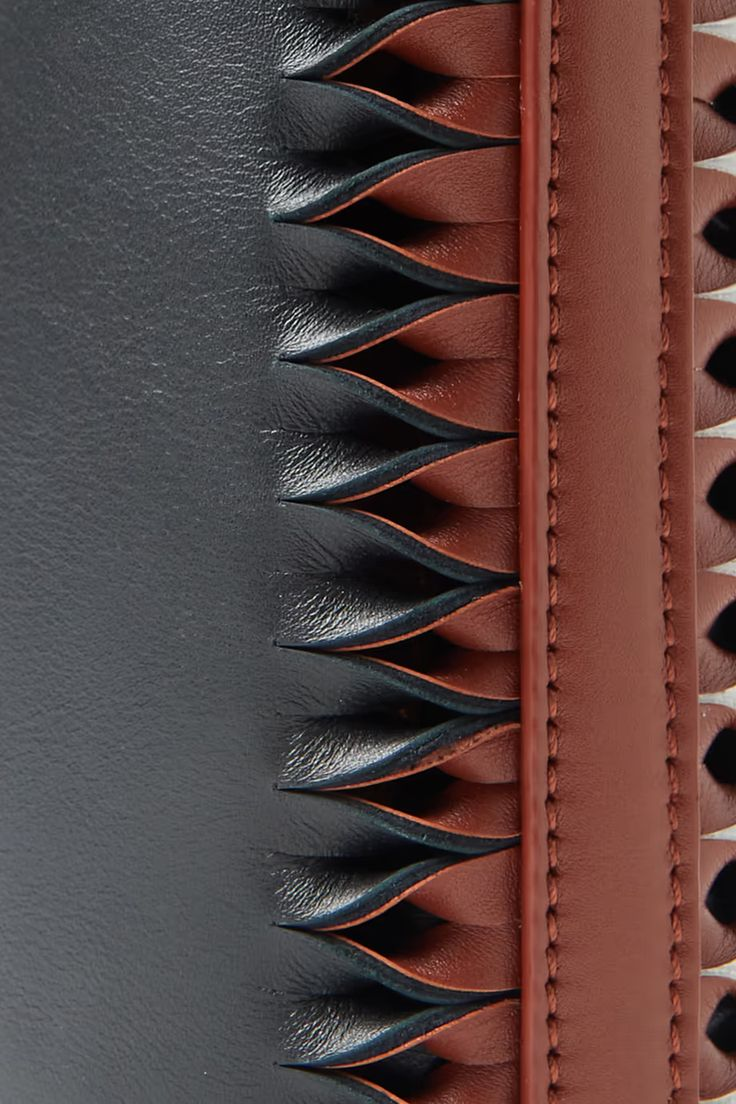cuero: (4, 2, 736, 1104)
